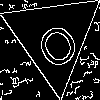O: (28, 13, 83, 73)
